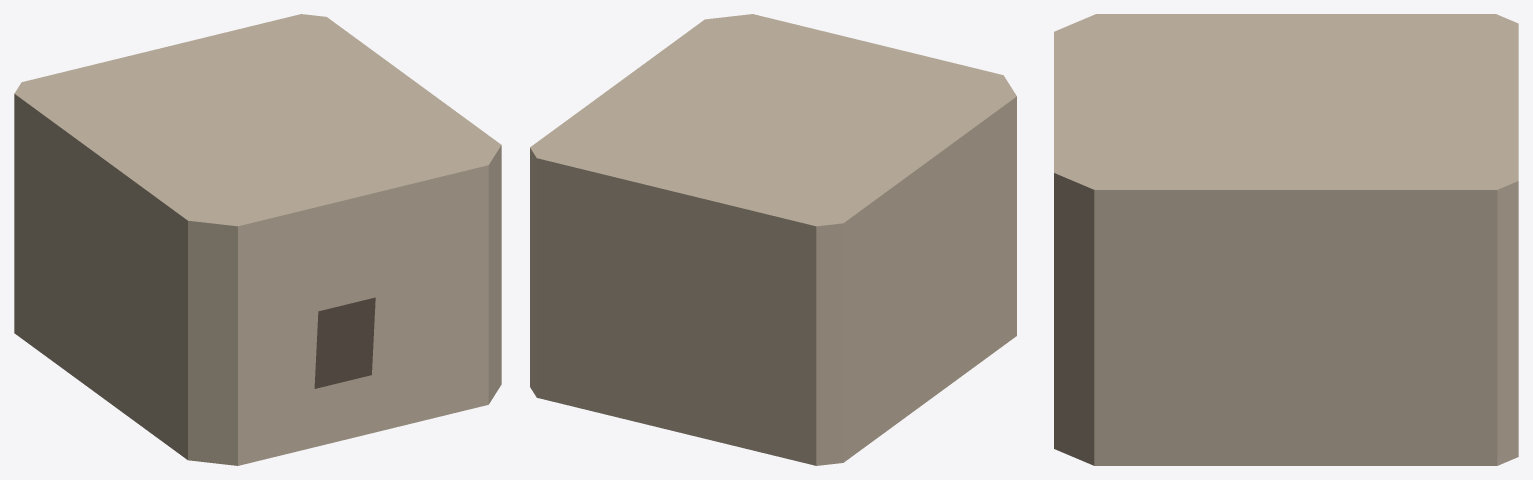
The model's file is loin-etape-1.glb.
3 views of the same model, side by side, from view 1: azimuth 30°, elevation 25°; view 2: azimuth 150°, elevation 25°; view 3: azimuth 270°, elevation 25° (orthographic). The views are drawn at different scales.
Parts seen in each view (by area): view 1: loin; view 2: loin; view 3: loin.
Part boxes in pixels (x1,y1,x2,y2): loin: (14,14,501,465); loin: (530,14,1016,465); loin: (1054,14,1518,465).
Size of the model in its own units: 0.7465 by 0.5463 by 0.8493.
